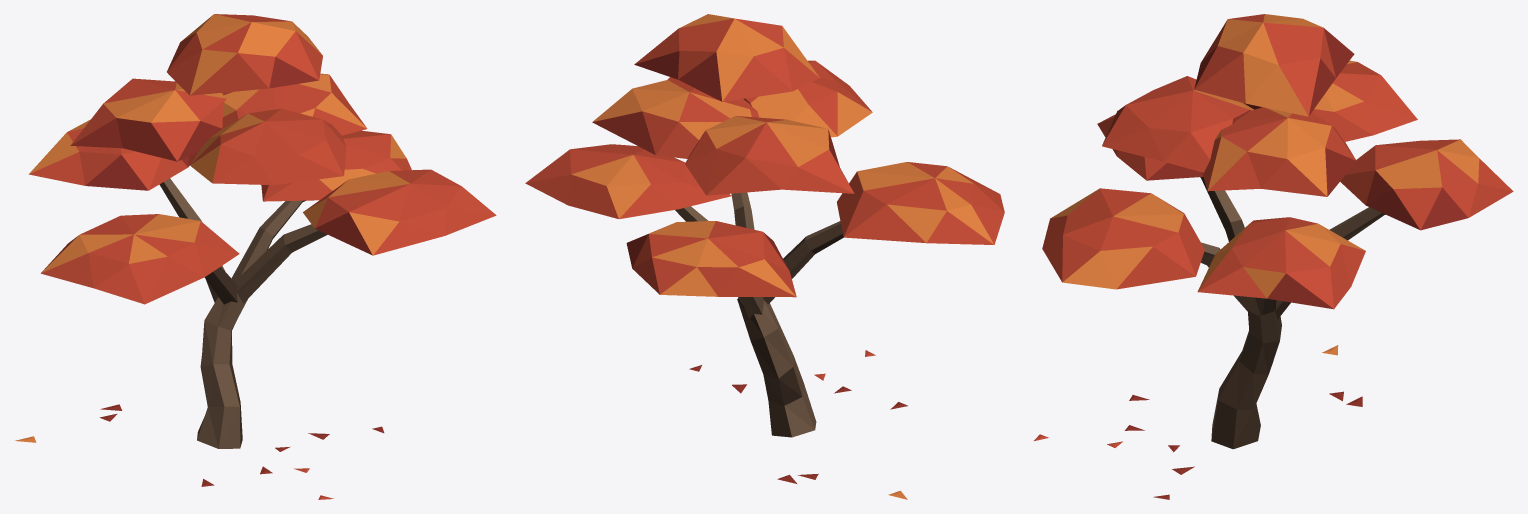
Rendered from tree_maple_a.fbx.
The picture shows the model from 3 angles, left to right: view 1: azimuth 30°, elevation 25°; view 2: azimuth 150°, elevation 25°; view 3: azimuth 270°, elevation 25°; orthographic projection. The views are drawn at different scales.
Visible parts, largest first — view 1: tree_maple_a; view 2: tree_maple_a; view 3: tree_maple_a.
Boxes of the visible parts, box(x1,y1,x2,y2) form: tree_maple_a: box(15, 14, 496, 499); tree_maple_a: box(525, 14, 1004, 499); tree_maple_a: box(1034, 14, 1513, 499).
Size of the model in its own units: 5.36 by 5.09 by 5.05.
